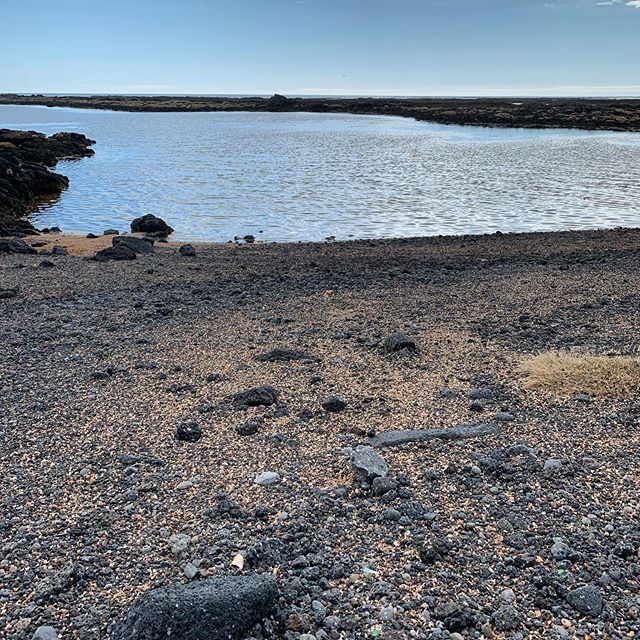beach: (16, 231, 640, 640)
sea: (10, 103, 624, 237)
sky: (1, 3, 635, 89)
